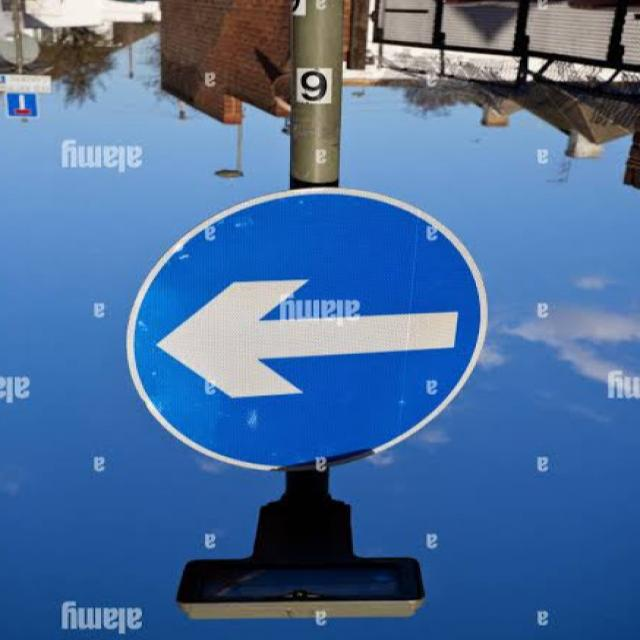Turn Left: (116, 187, 491, 473)
